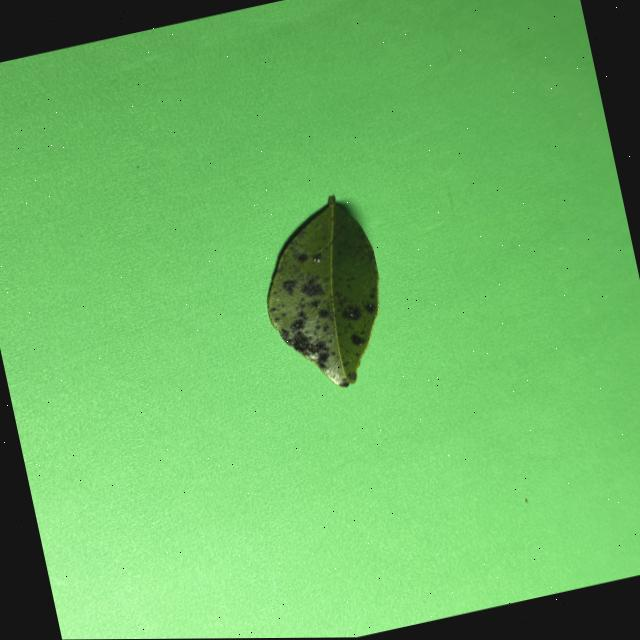sooty_mold: (267, 196, 377, 386)
